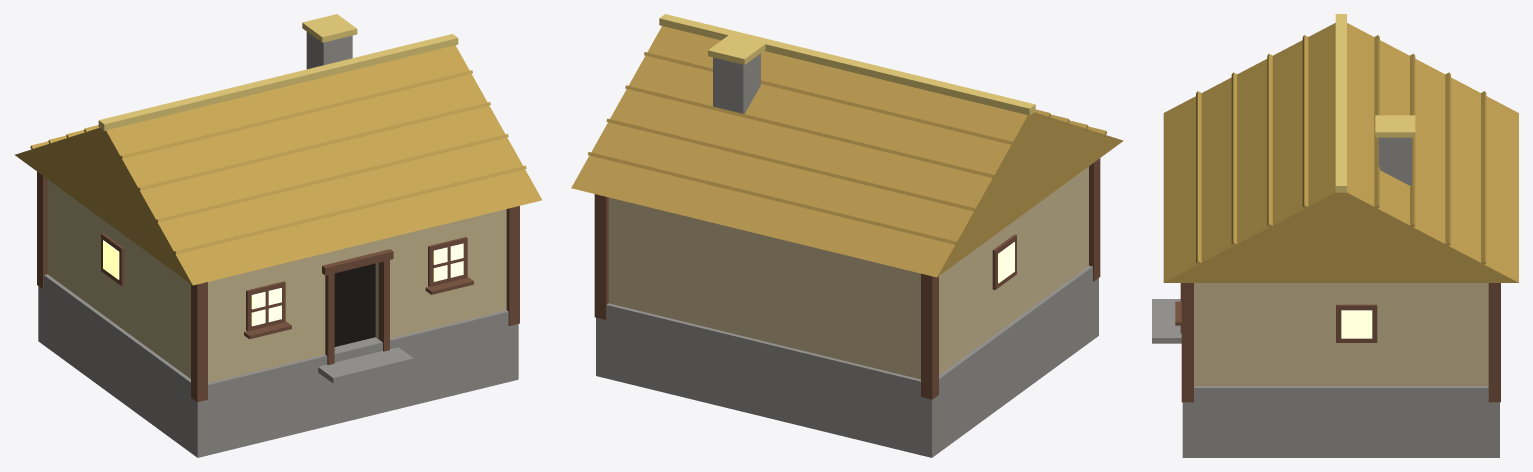
The model's file is casa_dorada.glb.
3 renders of one model, left to right at view 1: azimuth 30°, elevation 25°; view 2: azimuth 150°, elevation 25°; view 3: azimuth 270°, elevation 25°, orthographic. The views are drawn at different scales.
Parts seen in each view (by area): view 1: FG_Casa; view 2: FG_Casa; view 3: FG_Casa.
Boxes of the visible parts, bbox=[...] form: FG_Casa: bbox=[15, 14, 541, 457]; FG_Casa: bbox=[571, 14, 1123, 457]; FG_Casa: bbox=[1152, 14, 1518, 457].
Size of the model in its own units: 7.9 by 6.31 by 7.12.
